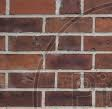brick: (45, 16, 93, 33), (45, 90, 92, 106), (7, 35, 56, 50), (47, 53, 92, 69), (7, 72, 55, 87), (1, 53, 43, 70), (1, 90, 42, 107), (1, 17, 43, 33), (9, 1, 57, 14), (83, 35, 112, 51), (84, 71, 112, 87), (83, 1, 112, 15), (57, 72, 81, 87), (58, 35, 81, 50), (59, 1, 81, 15), (95, 90, 112, 107), (94, 17, 112, 32), (95, 54, 112, 69)
